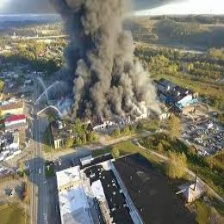smoke: (47, 1, 163, 113)
